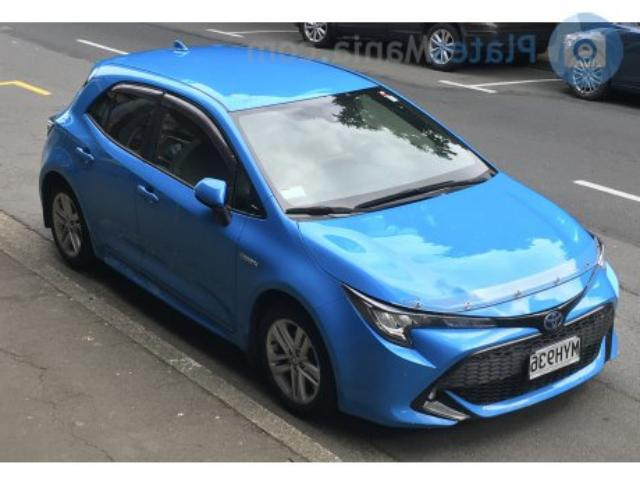Rego: (529, 334, 580, 382)
